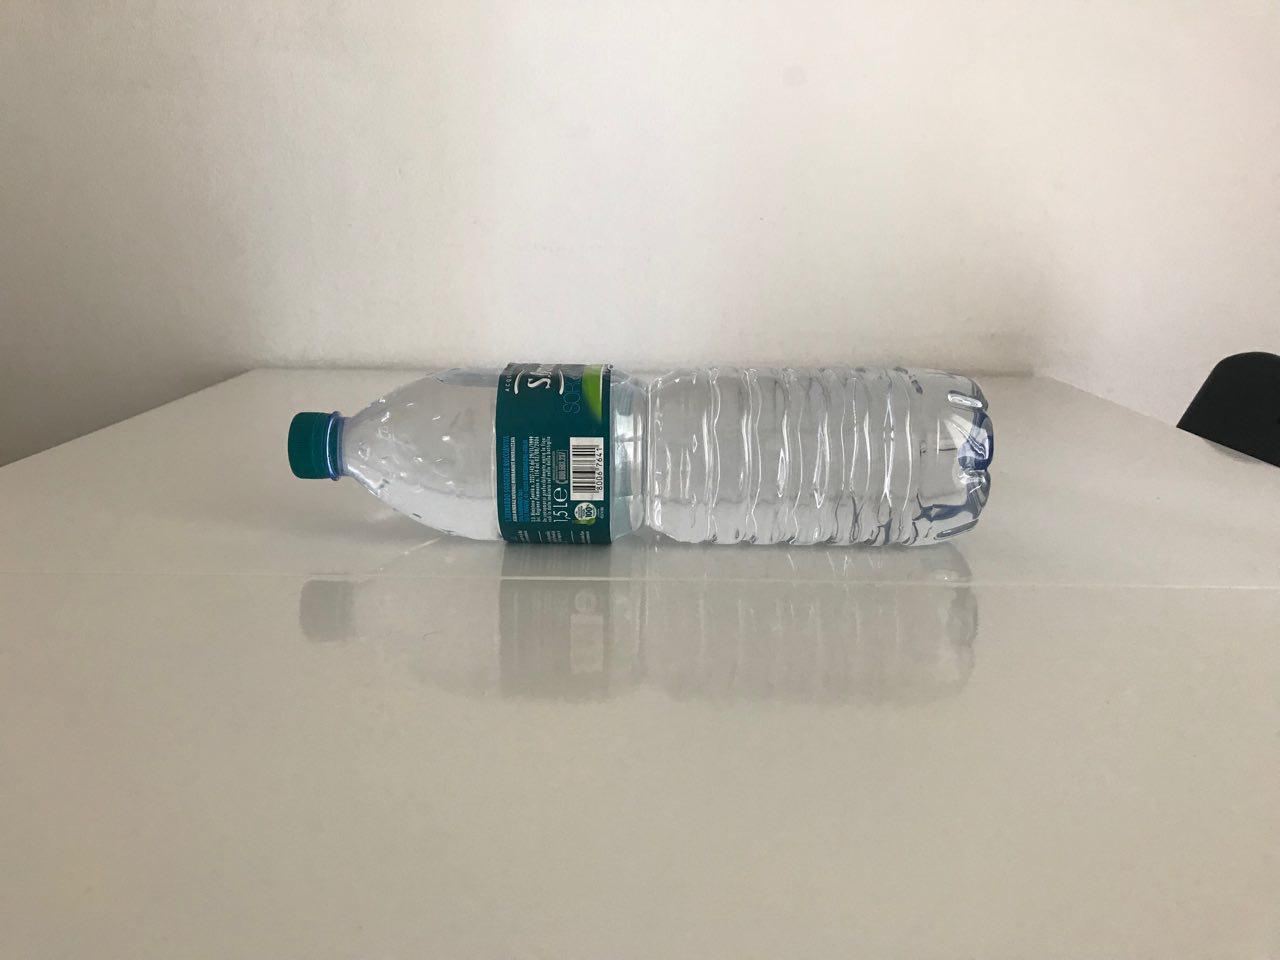san_bernardo: (285, 360, 996, 550)
